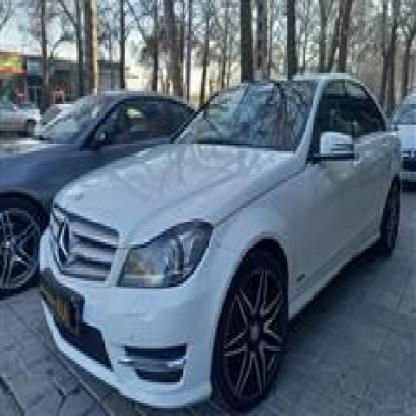Car: (43, 73, 409, 411), (0, 78, 206, 262)
